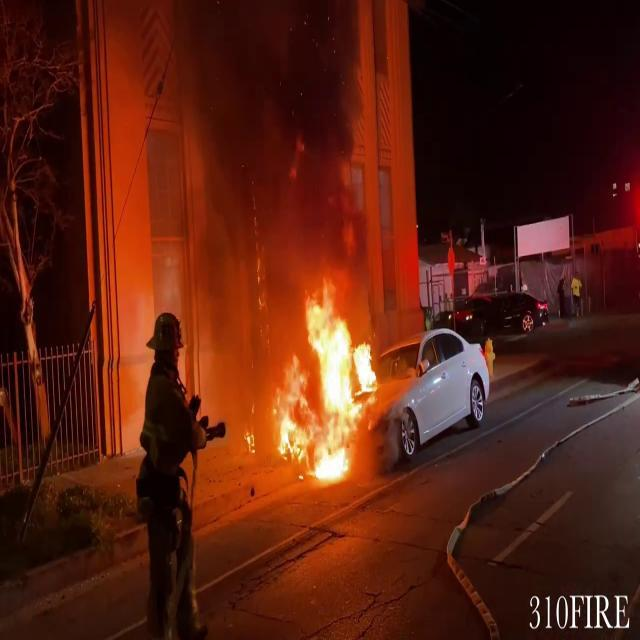Fire: (278, 284, 380, 480)
Smoke: (171, 0, 381, 296)
